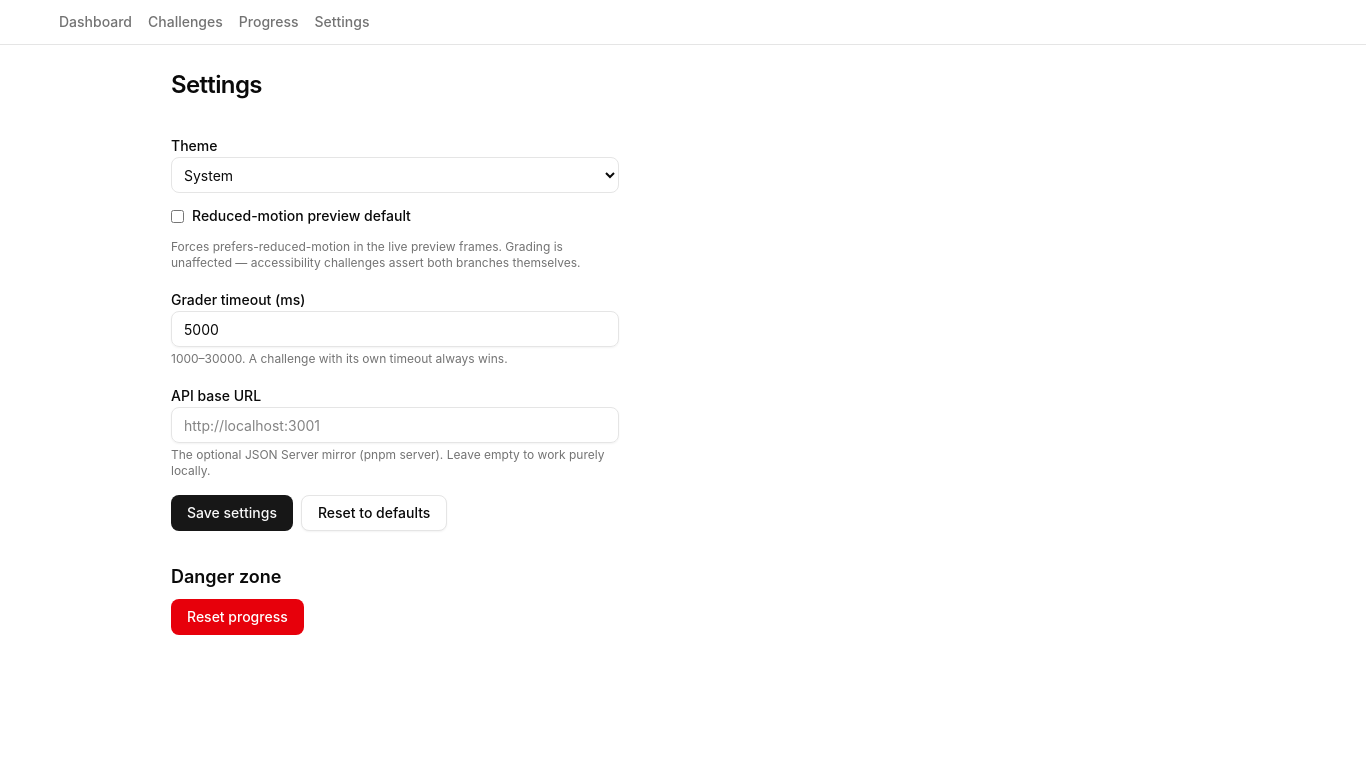
Test: SettingsPage › saves valid settings into the store
Replace the text in the number field labelled "Grader timeout (ms)" with "8000": (395, 329) [171,311,619,347]
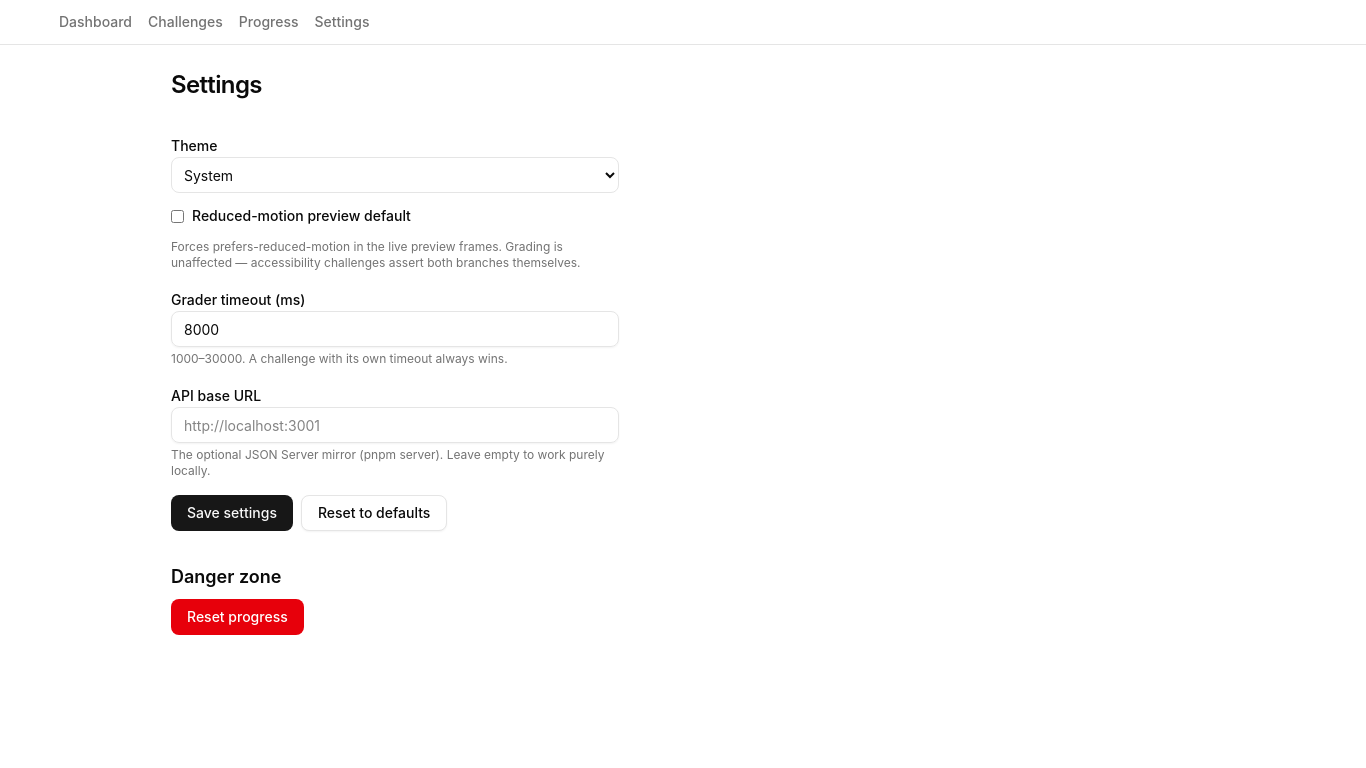
Select "Dark" in the dropdown labelled "Theme": (395, 175) [171,157,619,193]
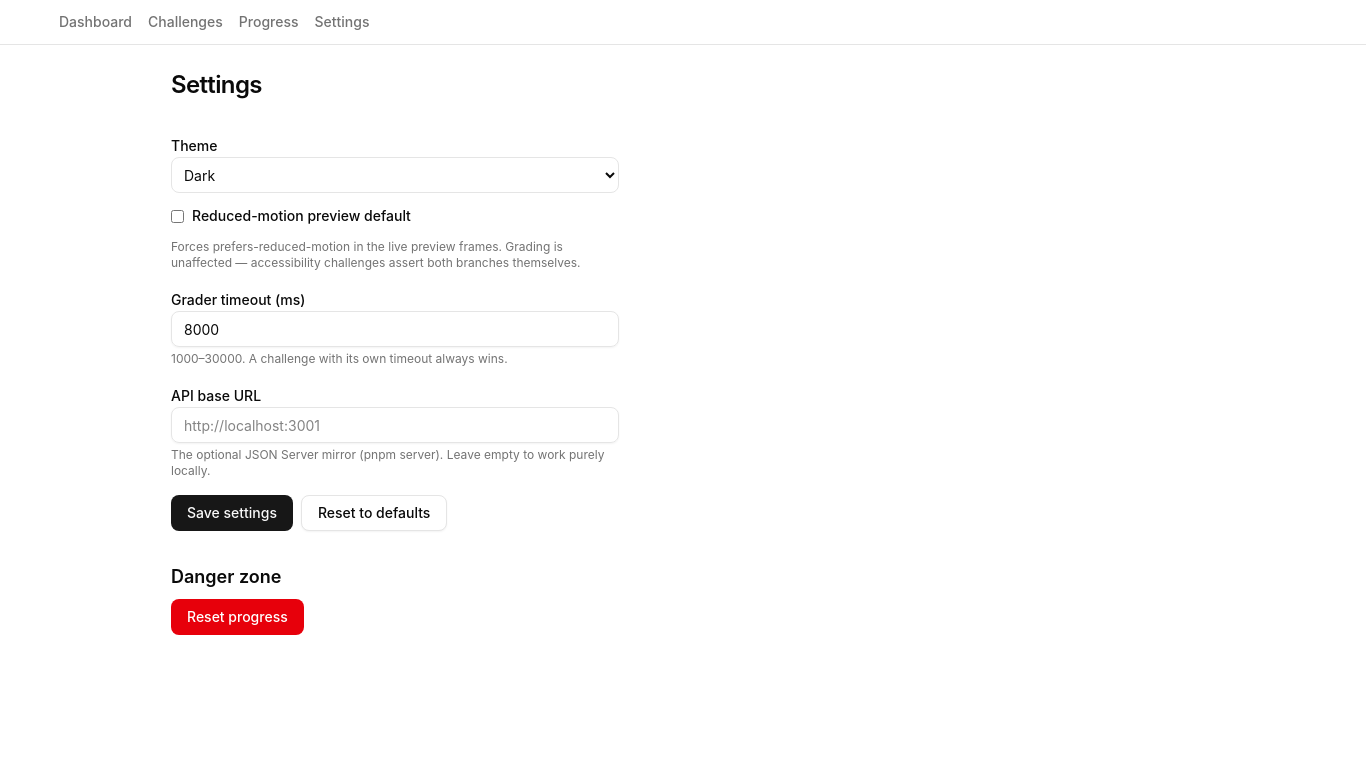
Click the checkbox labelled "Reduced-motion preview default": (178, 216) [171,210,184,222]
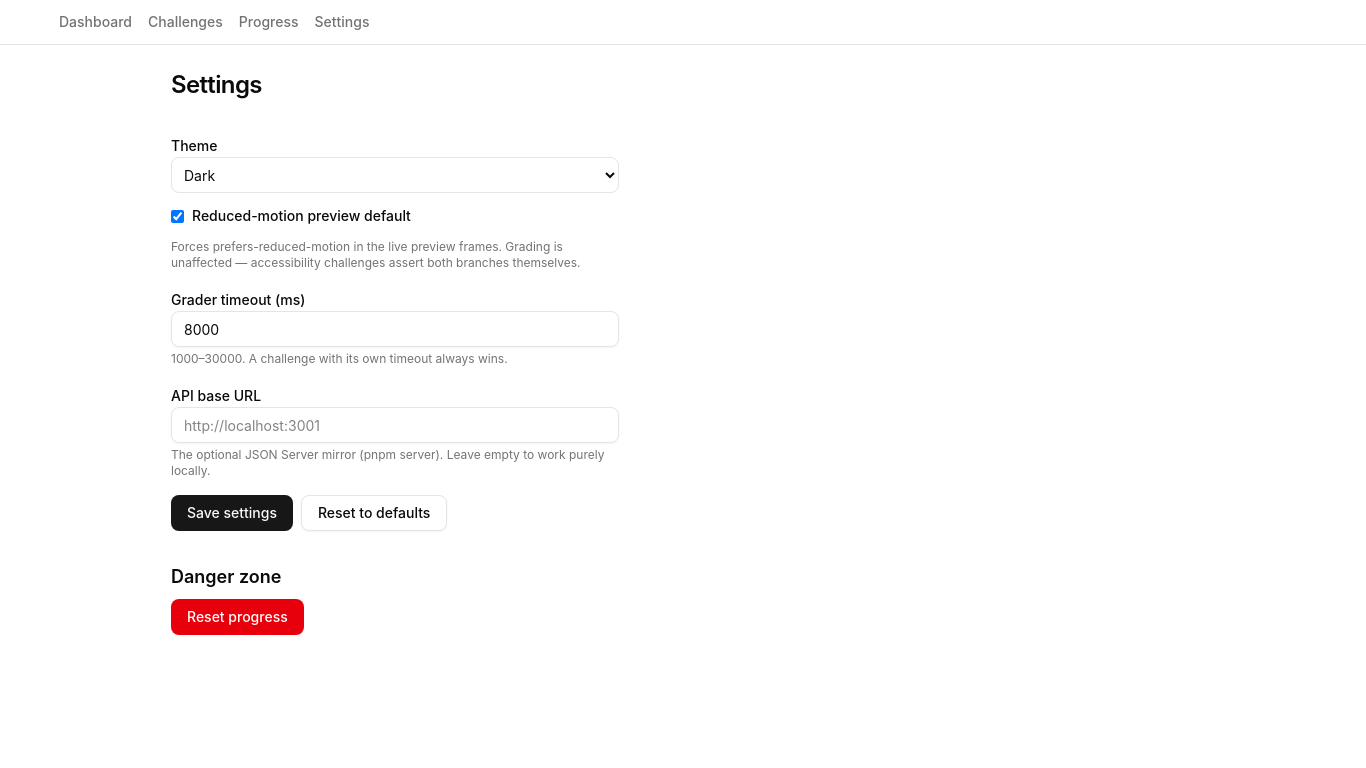
Click the button "Save settings": (232, 513) [171,495,293,531]
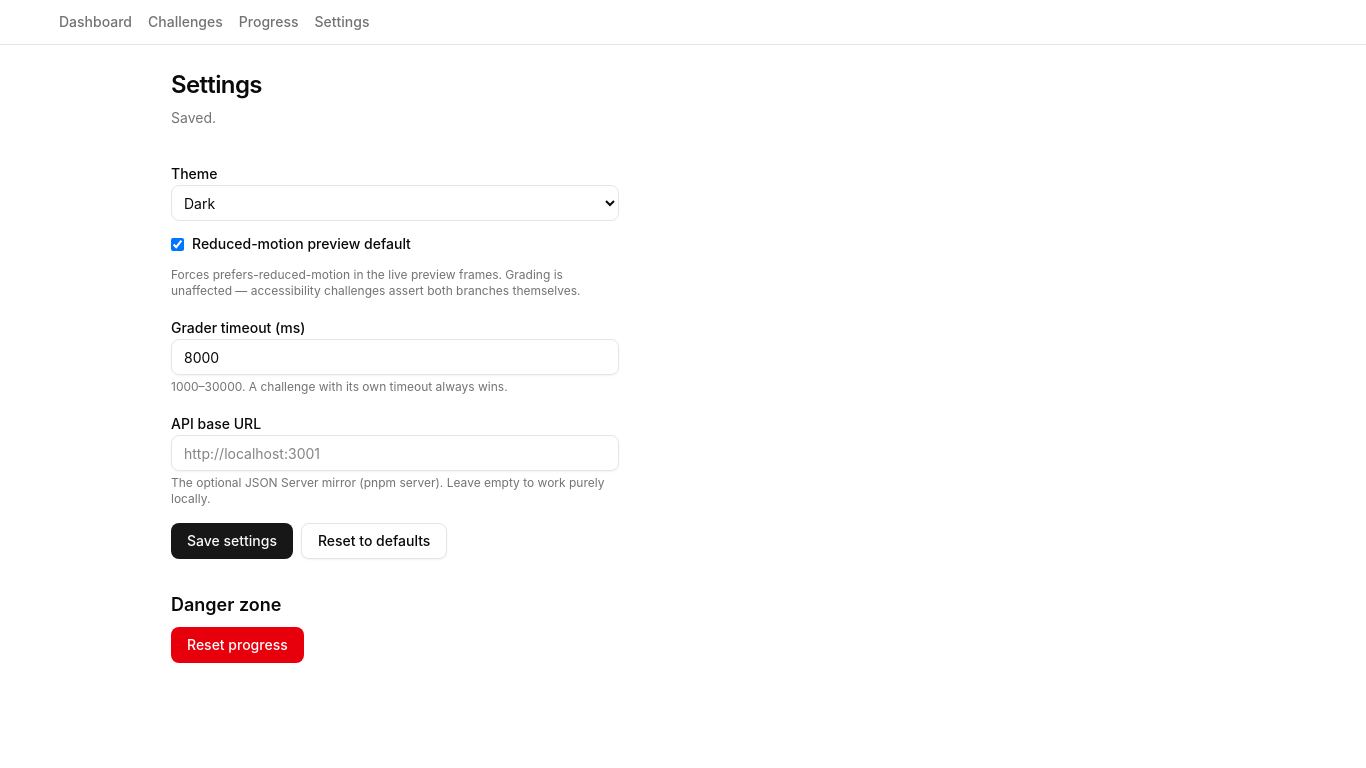
Expected: the text "Saved." is shown, [171,109,216,126]
